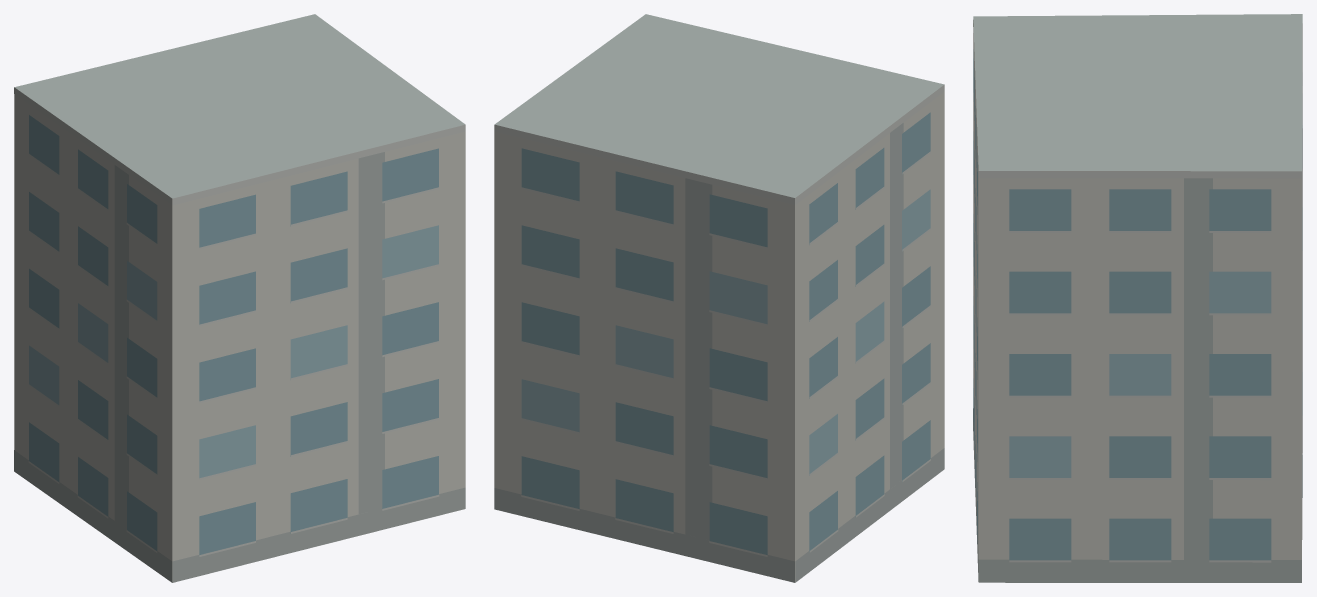
File: survey-upis-32891725.glb
3 views of the same model, side by side, from view 1: azimuth 30°, elevation 25°; view 2: azimuth 150°, elevation 25°; view 3: azimuth 270°, elevation 25° (orthographic). The views are drawn at different scales.
Parts seen in each view (by area): view 1: survey-upis-32891725.tmp; view 2: survey-upis-32891725.tmp; view 3: survey-upis-32891725.tmp.
Boxes of the visible parts, x1=… form: survey-upis-32891725.tmp: x1=14, y1=14, x2=465, y2=582; survey-upis-32891725.tmp: x1=494, y1=14, x2=944, y2=582; survey-upis-32891725.tmp: x1=973, y1=14, x2=1302, y2=582.
Size of the model in its own units: 11.23 by 13.7 by 9.95.
